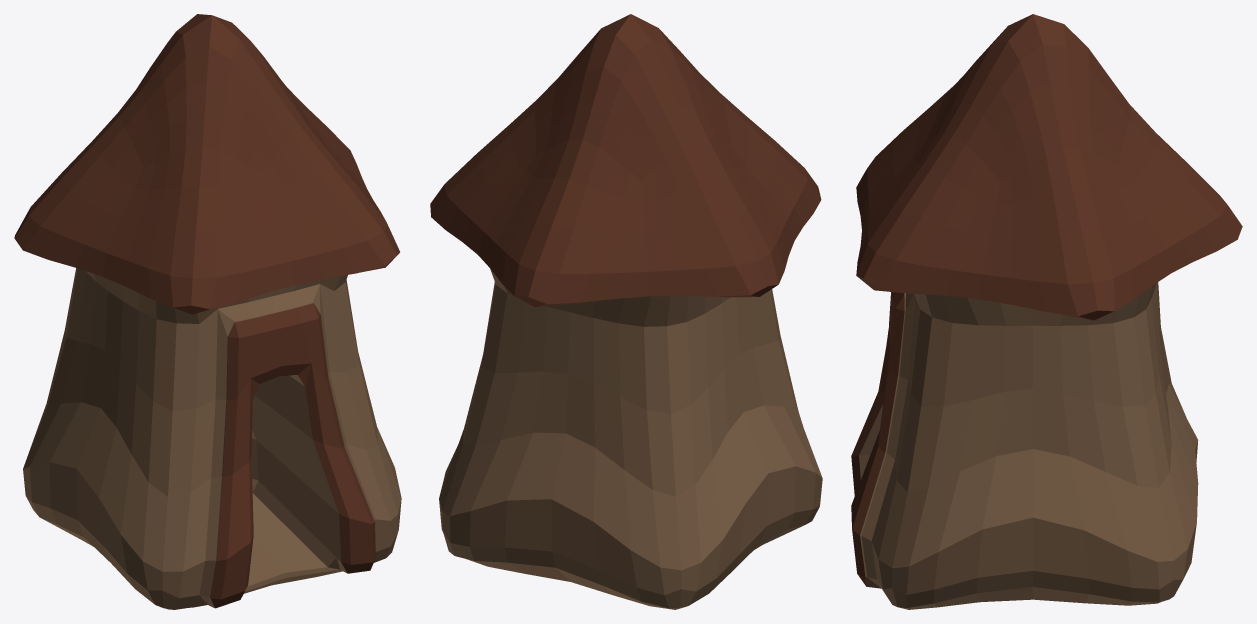
Rendered from tower3.fbx.
The picture shows the model from 3 angles, left to right: view 1: azimuth 30°, elevation 25°; view 2: azimuth 150°, elevation 25°; view 3: azimuth 270°, elevation 25°; orthographic projection. The views are drawn at different scales.
Visible parts, largest first — view 1: Cube, Cone; view 2: Cube, Cone; view 3: Cube, Cone.
Boxes of the visible parts, box(x1,y1,x2,y2) form: Cube: box(23, 268, 401, 609); Cone: box(14, 14, 399, 314); Cube: box(439, 268, 822, 609); Cone: box(430, 14, 821, 306); Cube: box(851, 282, 1198, 609); Cone: box(856, 14, 1242, 320).
Size of the model in its own units: 236 by 355 by 230.
